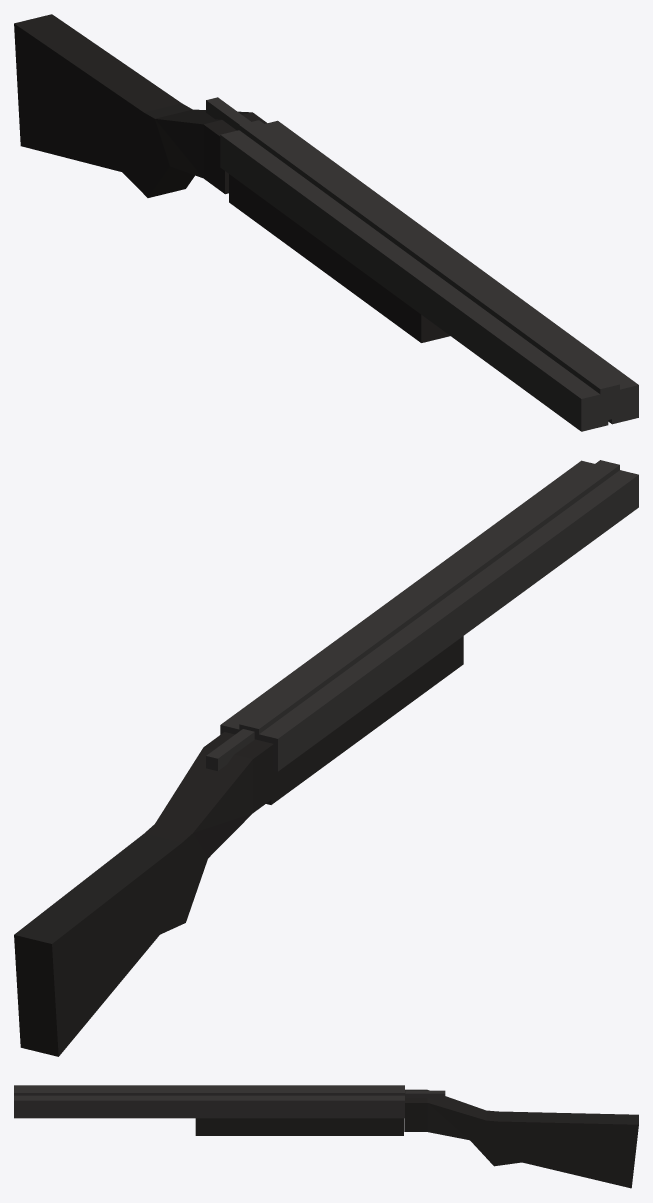
The model's file is DoubleSG.FBX.
3 renders of one model, top to bottom at view 1: azimuth 30°, elevation 25°; view 2: azimuth 150°, elevation 25°; view 3: azimuth 270°, elevation 25°, orthographic. The views are drawn at different scales.
Visible parts, largest first — view 1: DoubleSGbarrel, DoubleShotgun; view 2: DoubleSGbarrel, DoubleShotgun; view 3: DoubleSGbarrel, DoubleShotgun.
Boxes of the visible parts, <box> form: DoubleSGbarrel: <box>220,120,638,431</box>; DoubleShotgun: <box>14,14,267,197</box>; DoubleSGbarrel: <box>220,460,638,804</box>; DoubleShotgun: <box>14,729,274,1056</box>; DoubleSGbarrel: <box>14,1085,404,1135</box>; DoubleShotgun: <box>404,1089,638,1188</box>.
Bounding box in the file's own units: 12.92 × 224 × 36.95.
